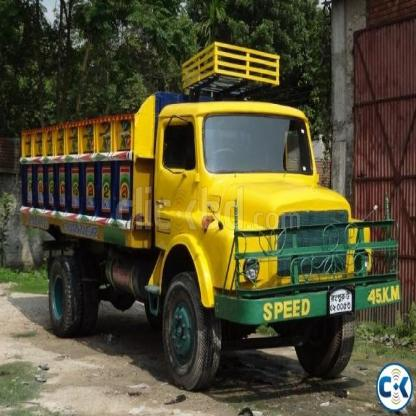truck: (20, 52, 394, 386)
